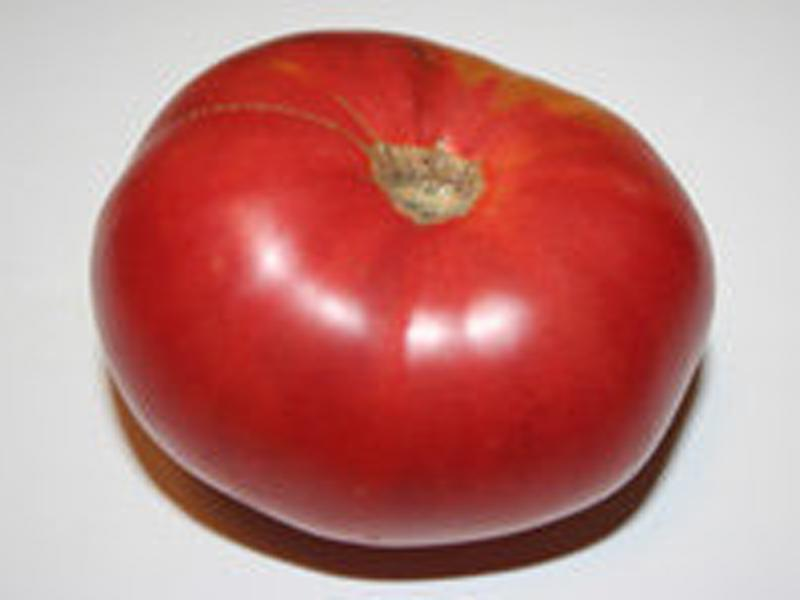Tomato: (88, 24, 718, 532)
